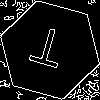T: (25, 25, 68, 77)
